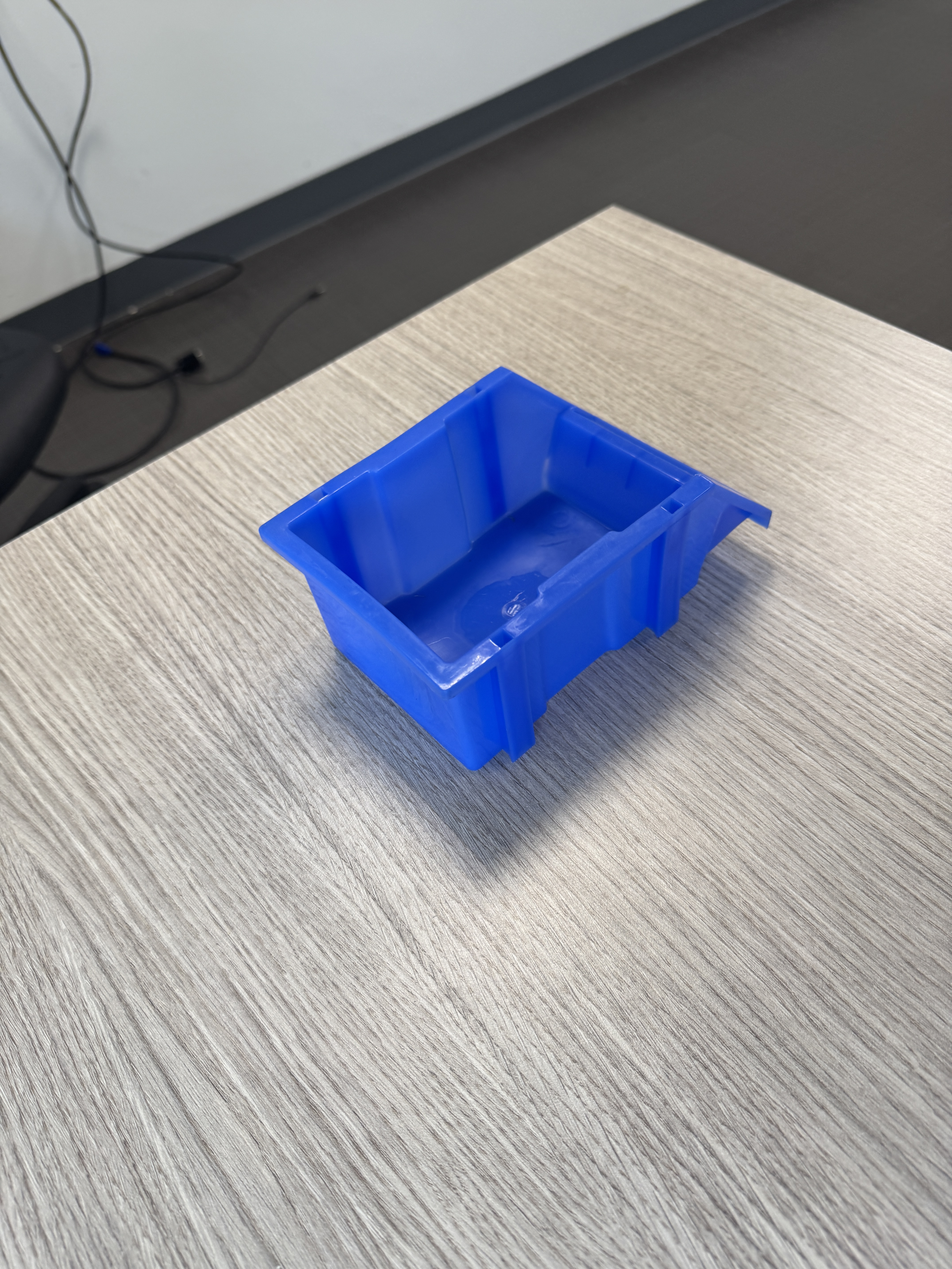Bin Boundary: (292, 325, 702, 694)
